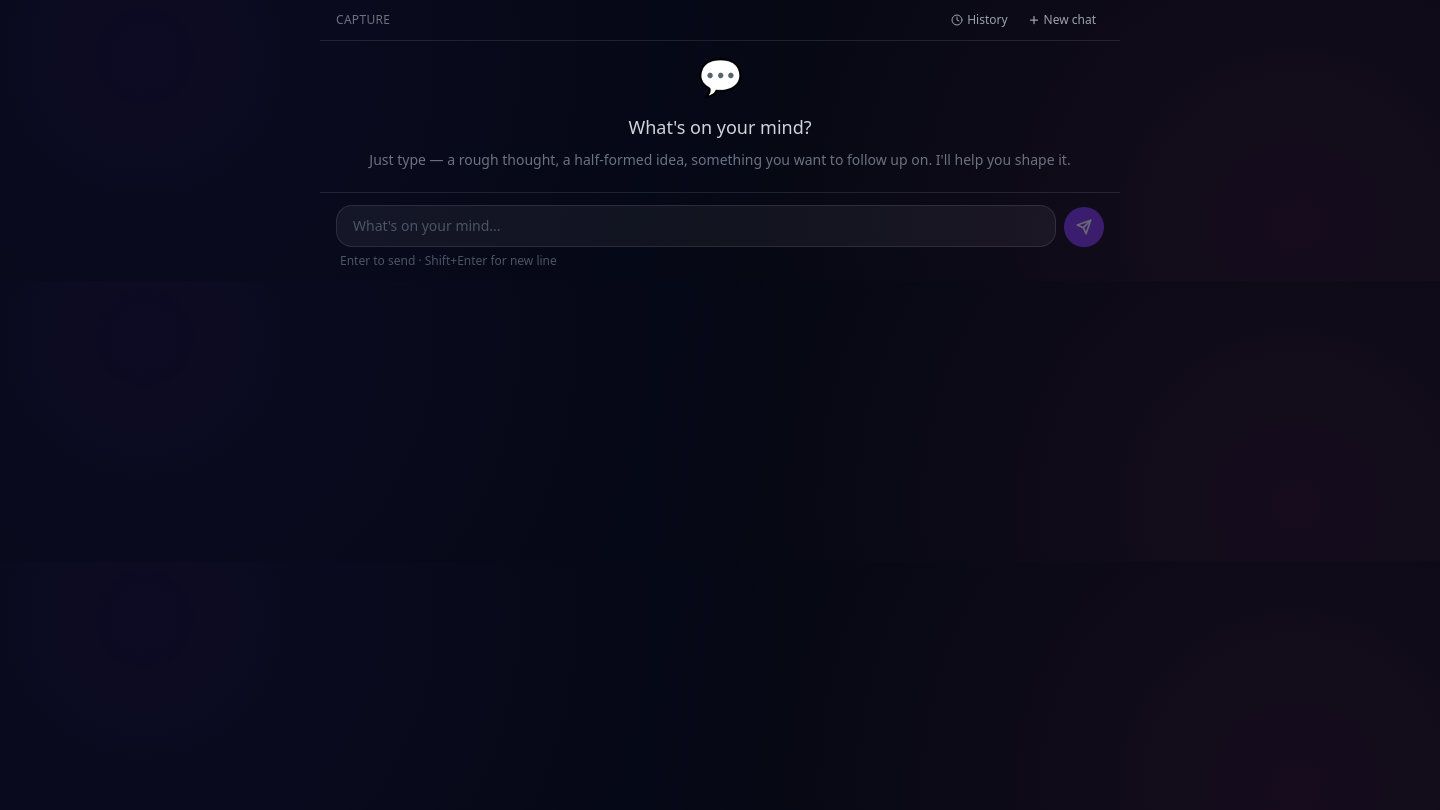
Test case: CaptureChat slash command autocomplete › /help runs on first Enter without needing a second press
In the text box with placeholder "What's on your mind...": (696, 226) x1=336 y1=205 x2=1056 y2=247, type "/help"
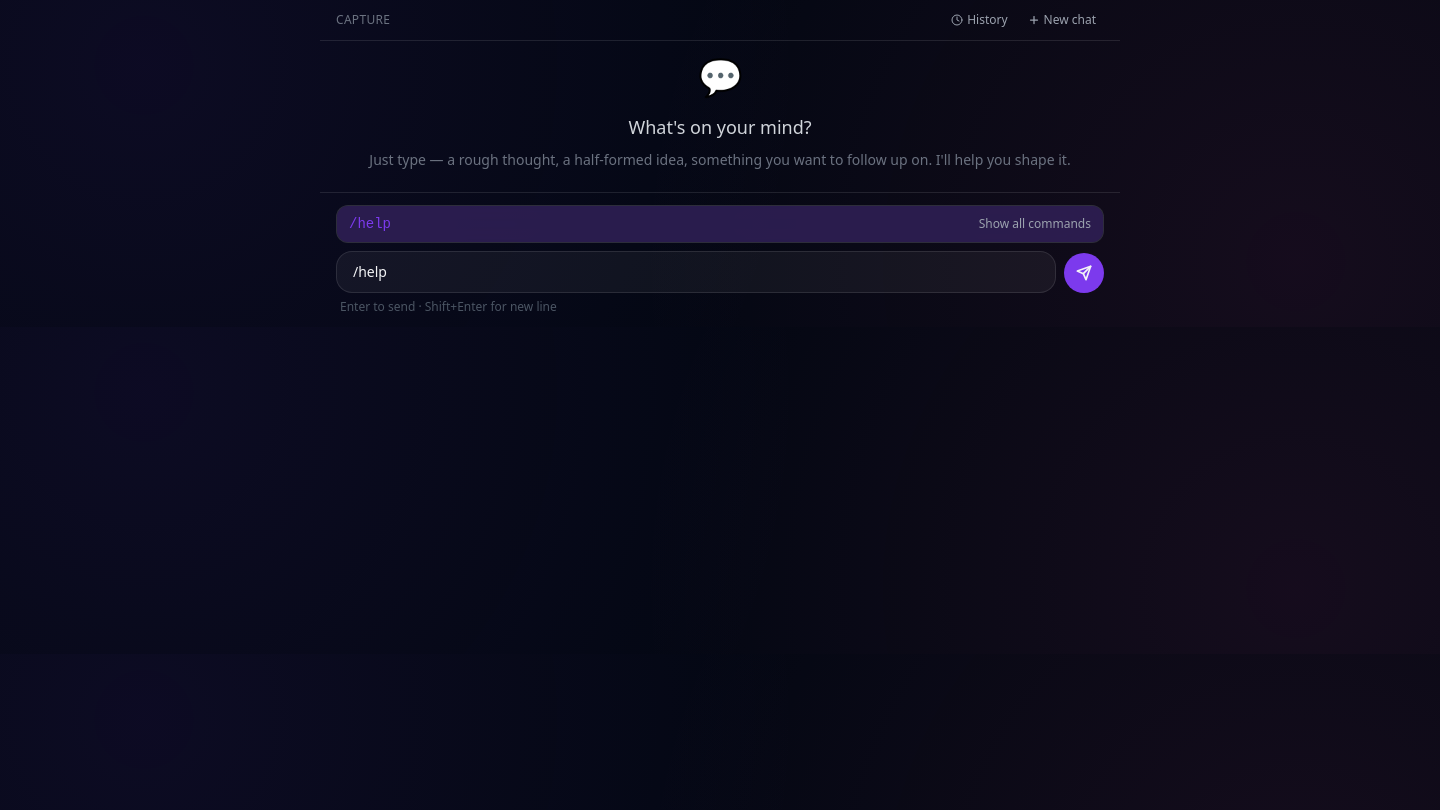
Press Enter in the text box with placeholder "What's on your mind...", box x1=336 y1=251 x2=1056 y2=293
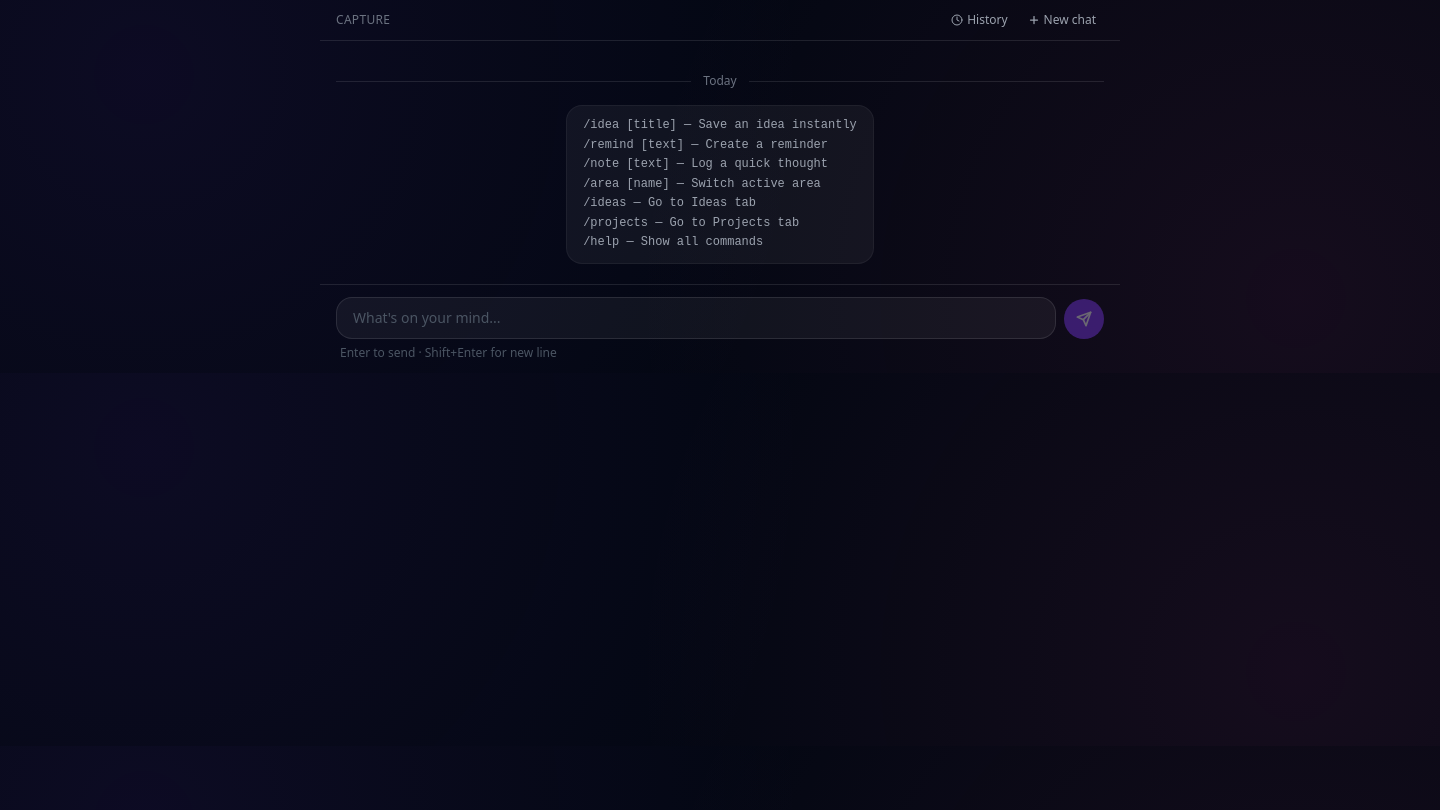
Check: the text "Show all commands" is shown, box x1=583 y1=118 x2=857 y2=249
